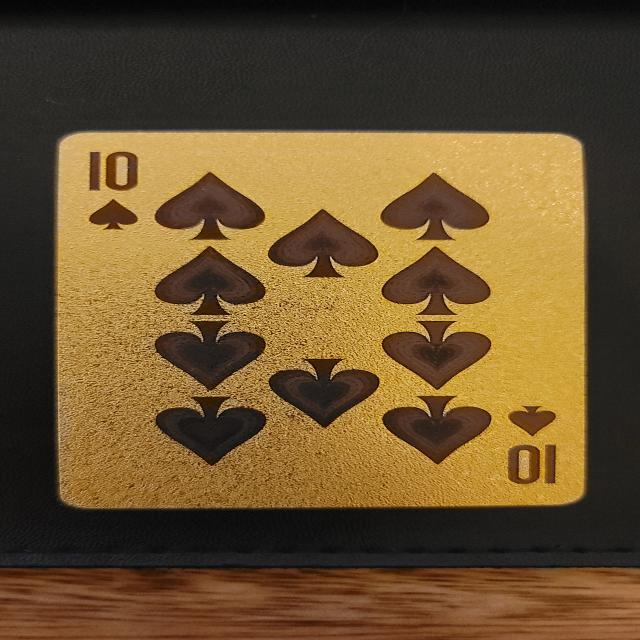10 of spades: (58, 132, 585, 509)
